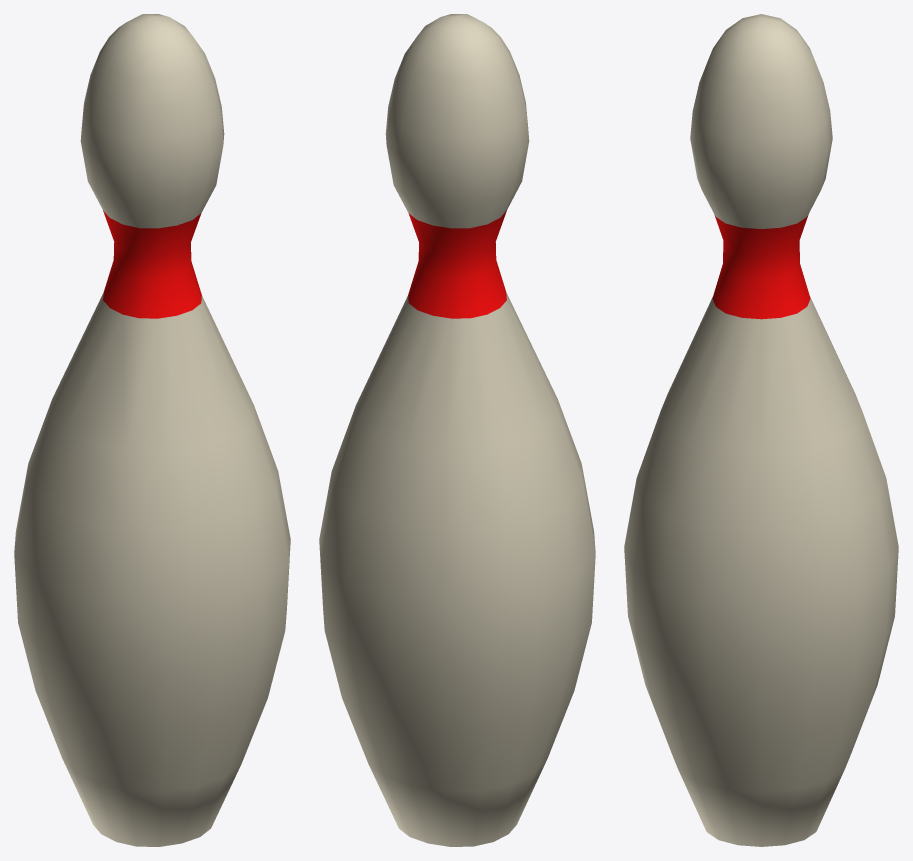
Rendered from pin_default.gltf.
The picture shows the model from 3 angles, left to right: view 1: azimuth 30°, elevation 25°; view 2: azimuth 150°, elevation 25°; view 3: azimuth 270°, elevation 25°; orthographic projection.
Visible parts, largest first — view 1: pin.002; view 2: pin.002; view 3: pin.002.
Boxes of the visible parts, <box> form: pin.002: <box>14,14,290,846</box>; pin.002: <box>319,14,595,846</box>; pin.002: <box>624,14,898,846</box>.
Size of the model in its own units: 0.1176 by 0.38 by 0.1176.
Materials: 1 (1 with a texture image).
